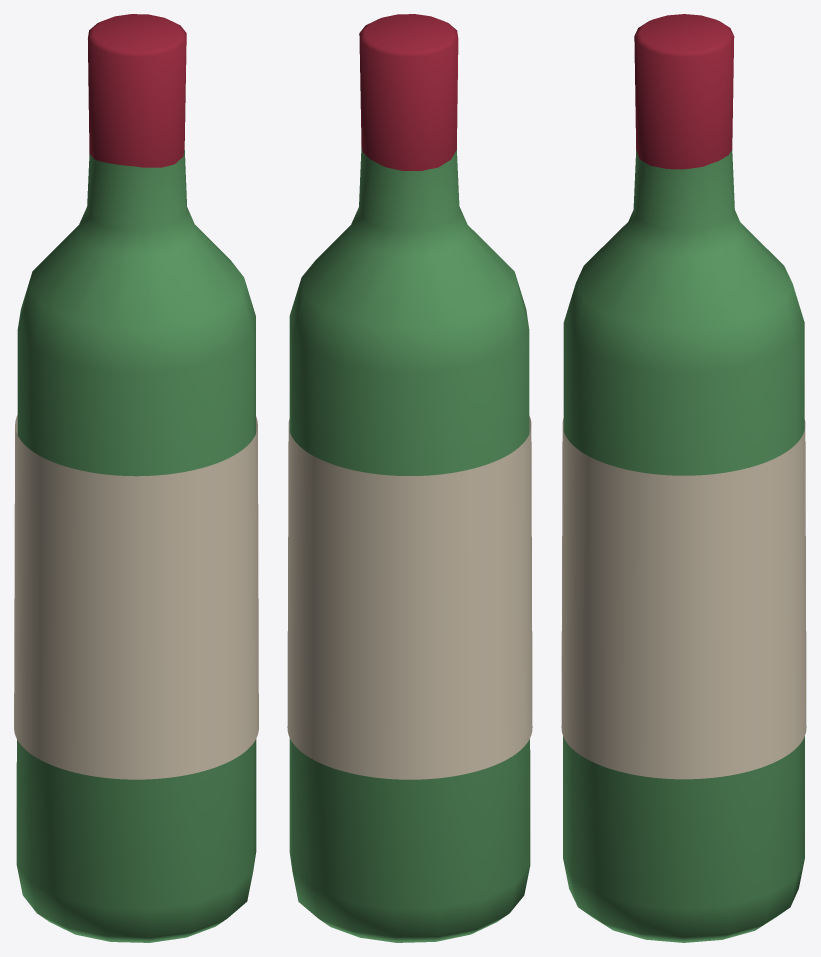
The model's file is v2_bordeaux_classic_minimal.glb.
3 views of the same model, side by side, from view 1: azimuth 30°, elevation 25°; view 2: azimuth 150°, elevation 25°; view 3: azimuth 270°, elevation 25° (orthographic).
Visible parts, largest first — view 1: Glass, Label_band, Cap; view 2: Glass, Label_band, Cap; view 3: Glass, Label_band, Cap.
Boxes of the visible parts, box(x1,y1,x2,y2) form: Glass: box(16, 149, 256, 942); Label_band: box(14, 415, 258, 779); Cap: box(88, 14, 186, 167); Glass: box(289, 146, 530, 942); Label_band: box(287, 416, 532, 779); Cap: box(359, 14, 458, 170); Glass: box(563, 150, 804, 942); Label_band: box(561, 418, 806, 779); Cap: box(634, 14, 734, 169).
Size of the model in its own units: 0.0769 by 0.3008 by 0.0769.
